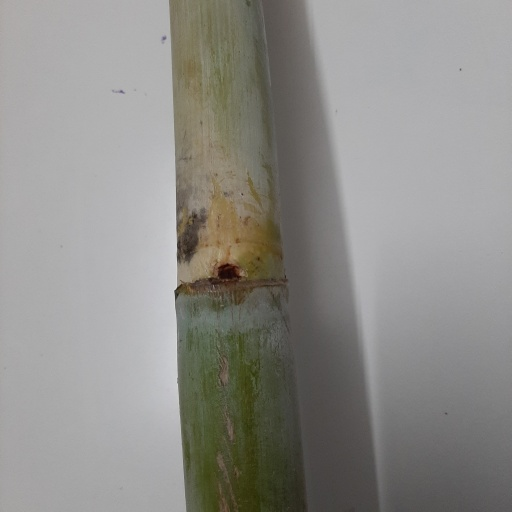Damage_Bud: (214, 263, 245, 283)
